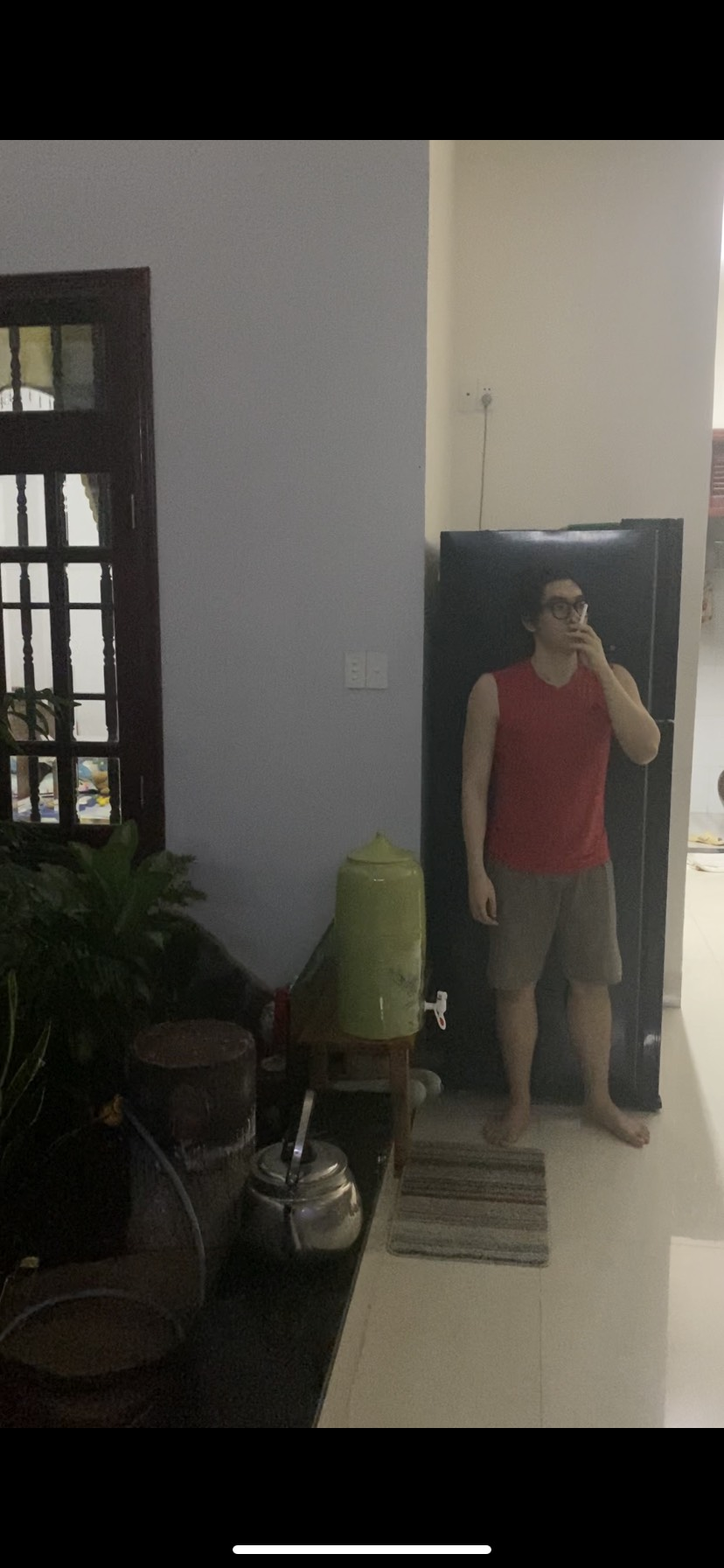cigarette: (575, 601, 592, 626)
person: (456, 556, 670, 1162)
